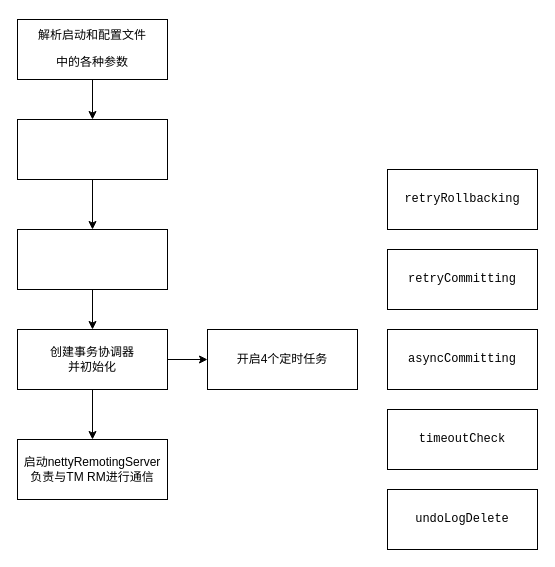
This 555x567 diagram has some shape labels left out. The shapes that lost their labels are listed below. From the top down, each one's centre as x and y in pixels, then its label:
pixel 92 149: 初始化id生成器 用来生成事务id
pixel 92 259: 设置存储模式 用来负责事务日志 的持久化存储
